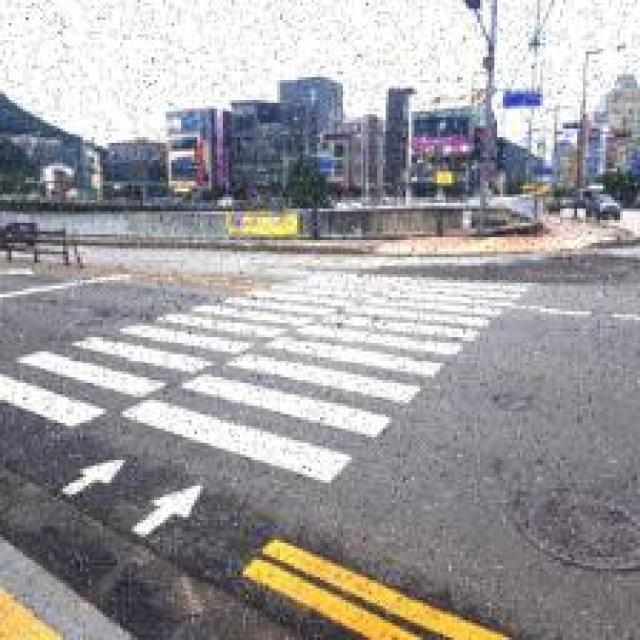crosswalk: (8, 255, 536, 486)
